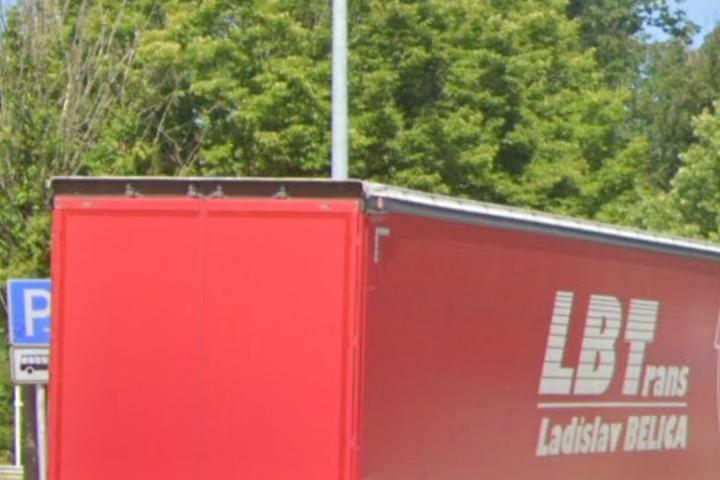traffic_sign: (6, 279, 67, 350)
